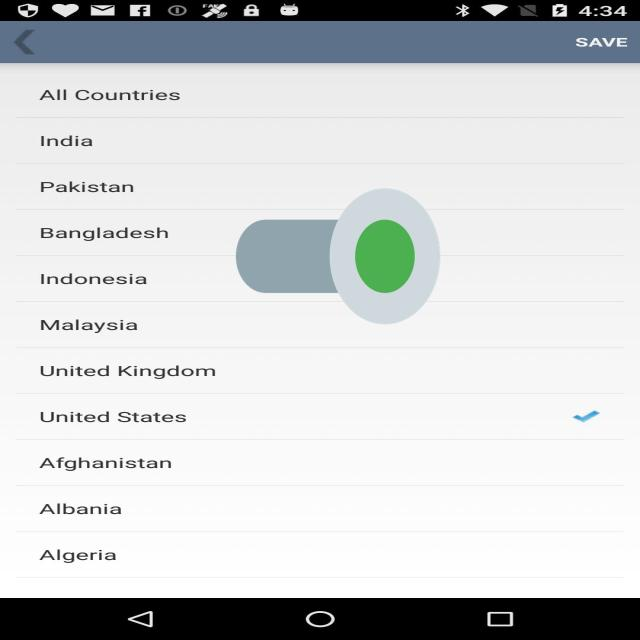social proof: (236, 131, 440, 382)
